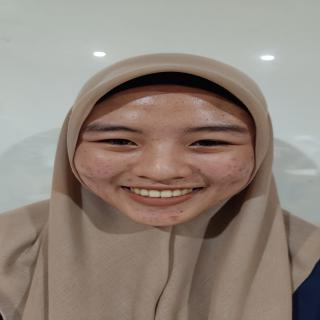Senang: (68, 76, 258, 232)
